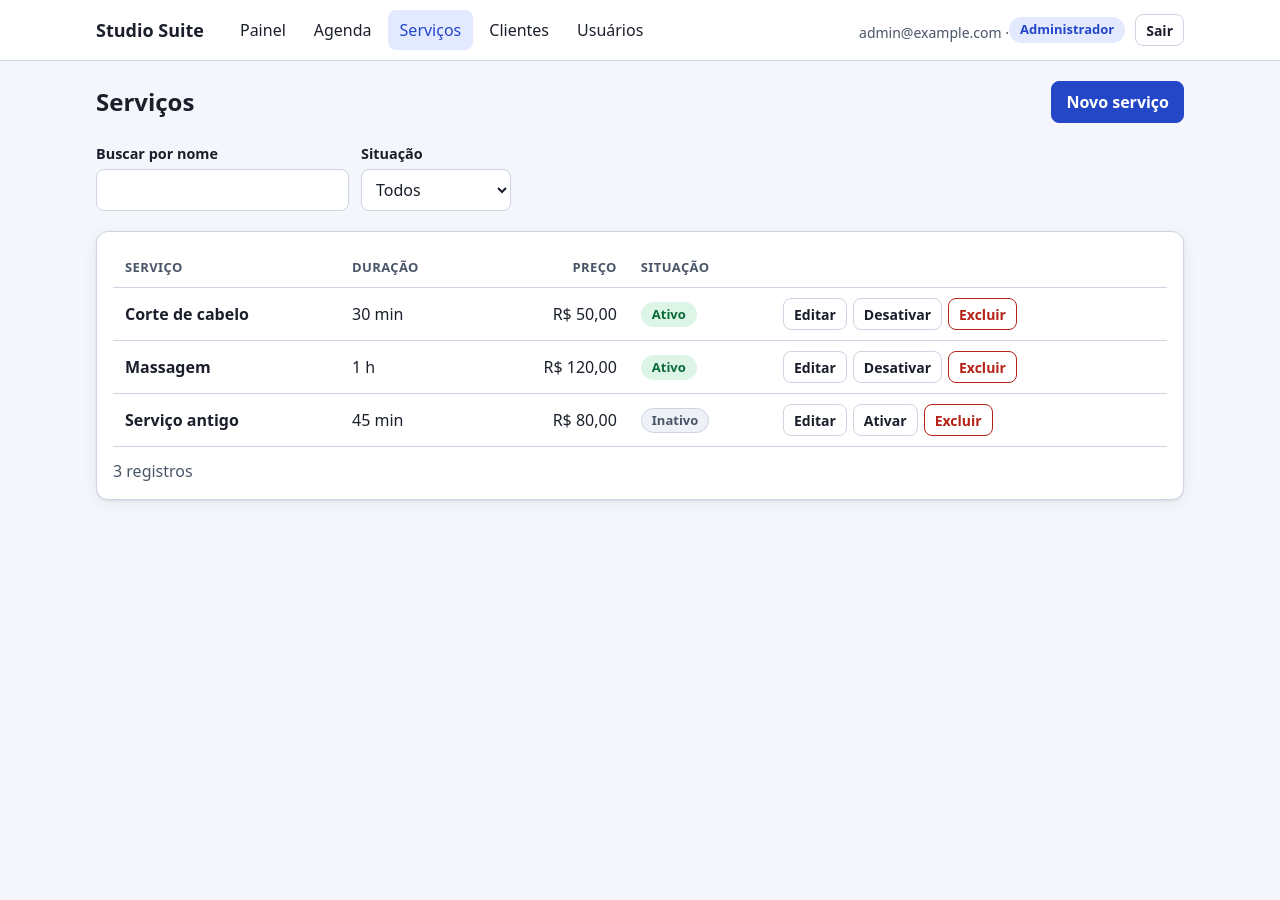
Test: services CRUD › shows the API 422 field errors under the right field
expect the heading "Serviços" is shown: met, box [96,87,194,117]
Click the button "Novo serviço" at coordinates (1118, 102), box [1052,81,1184,123]
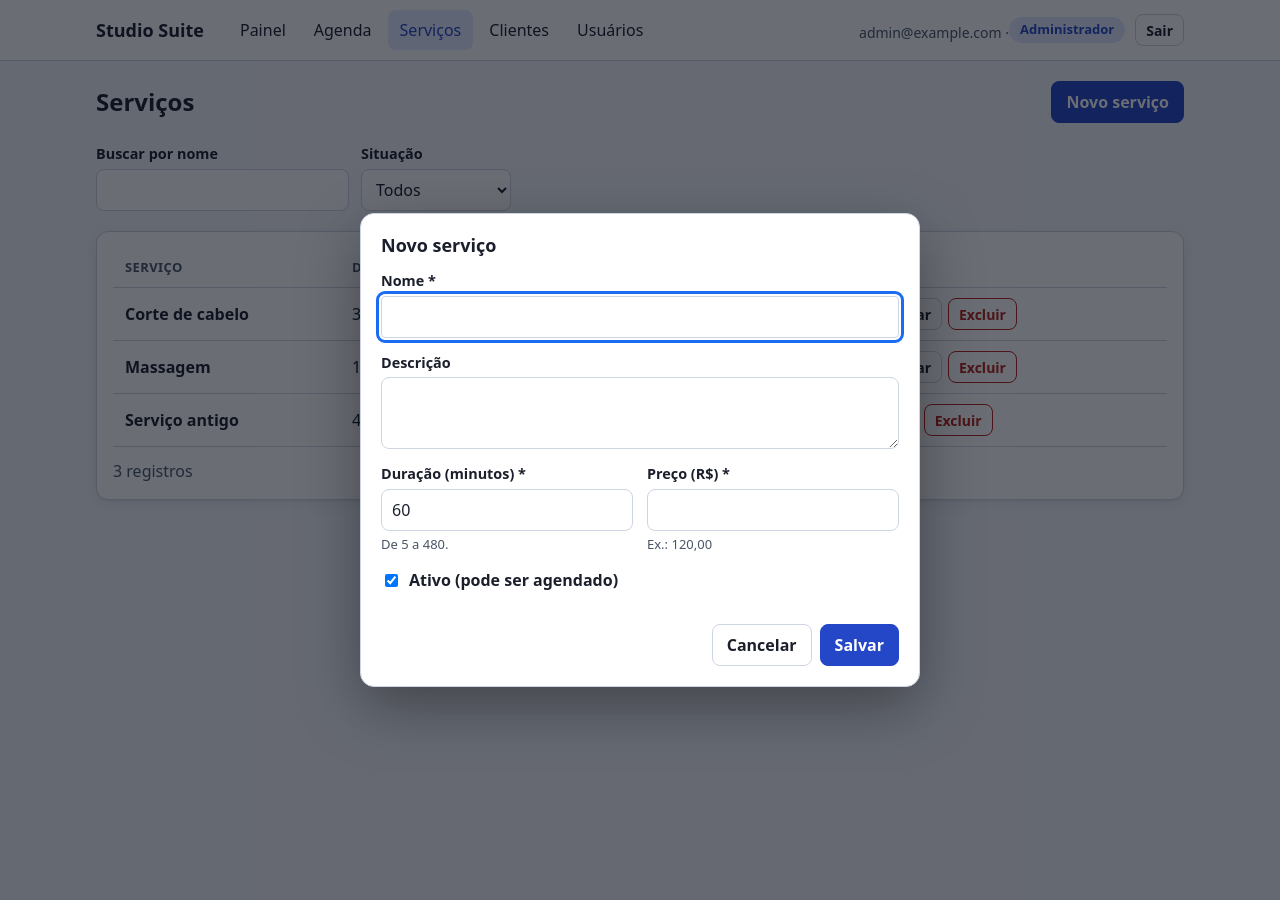
Type "Caro" into the field labelled "Nome *" at coordinates (640, 317), box [381,296,899,338]
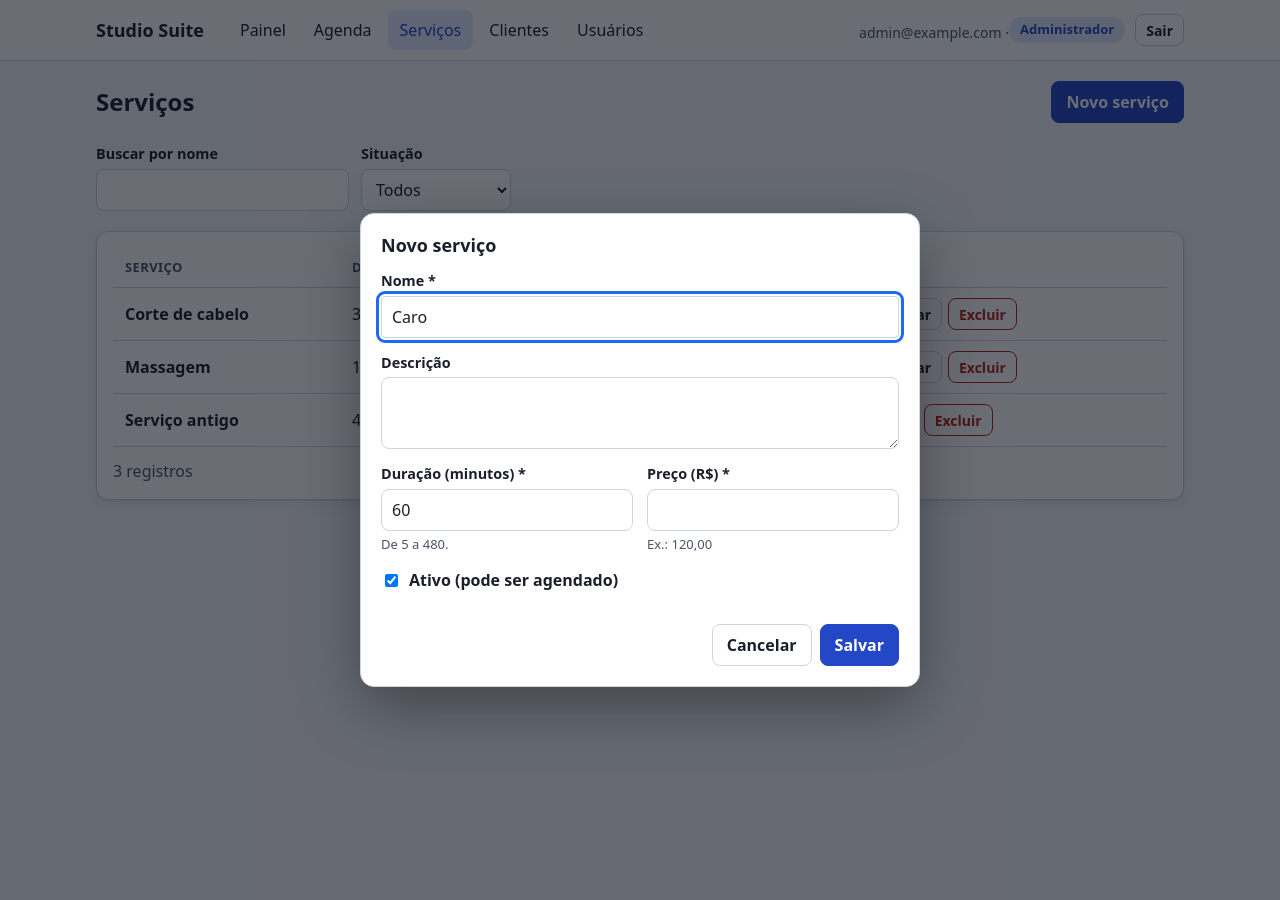
Type "10" into the field labelled "Preço (R$) *" at coordinates (773, 510), box [647,489,899,531]
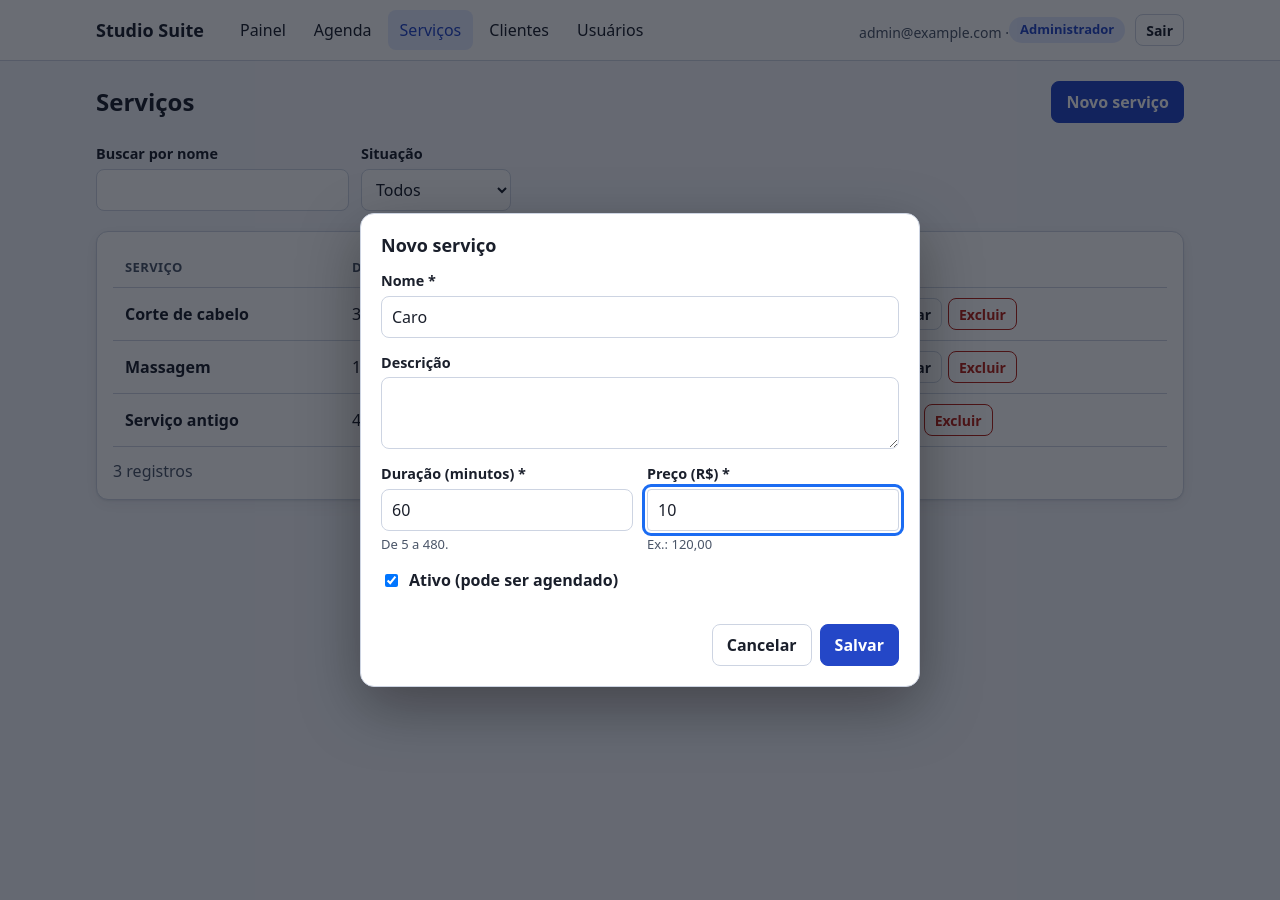
Click the button "Salvar" at coordinates (859, 645), box [820,624,899,666]
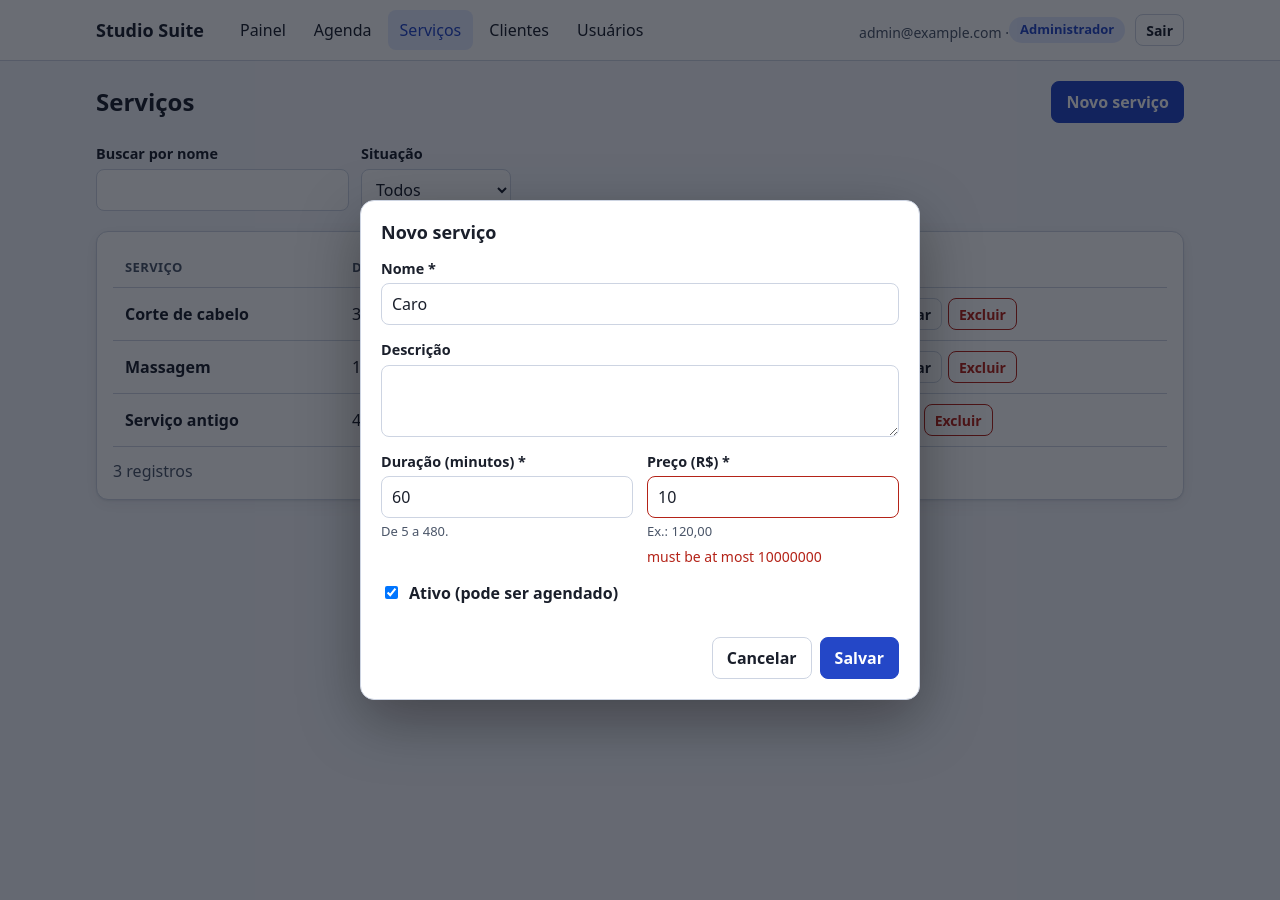
expect the text "must be at most 10000000" is shown: met, box [647,547,822,566]
